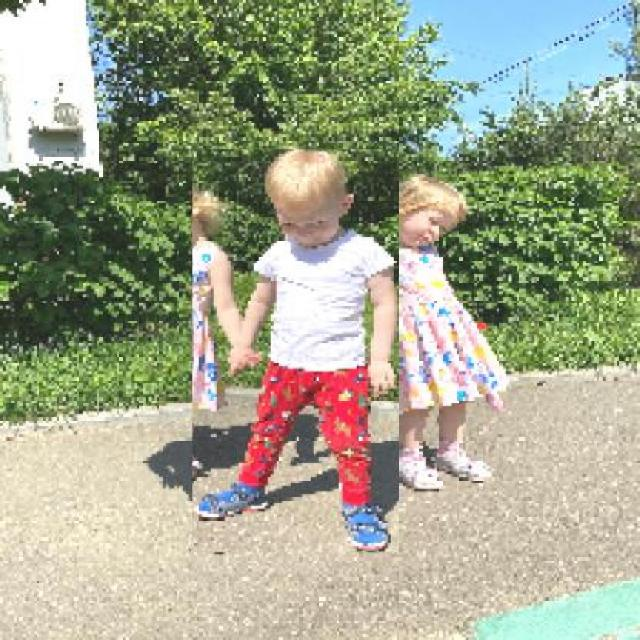child: (191, 149, 400, 554), (328, 173, 508, 490)
